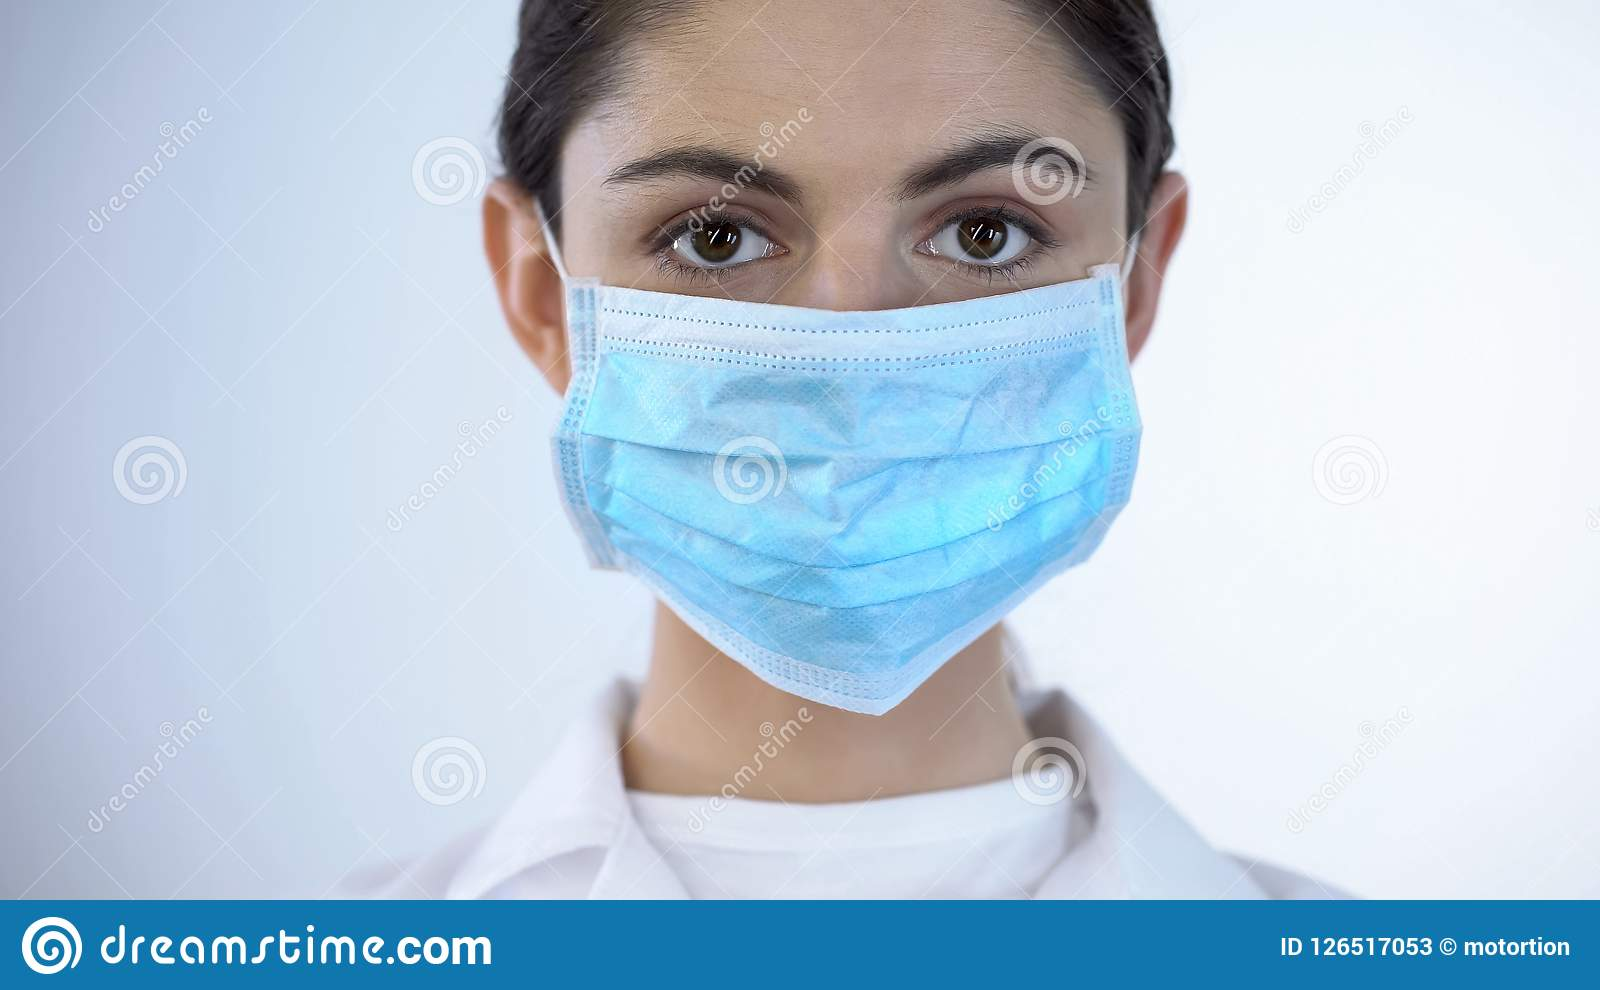mask: (533, 276, 1166, 654)
